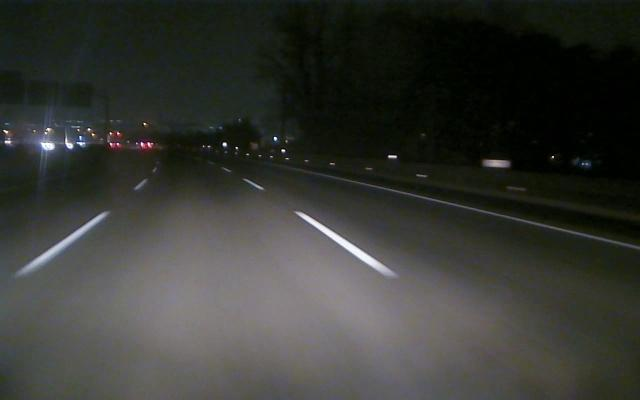lane: (312, 173, 639, 251), (244, 175, 399, 281), (11, 181, 146, 278)
